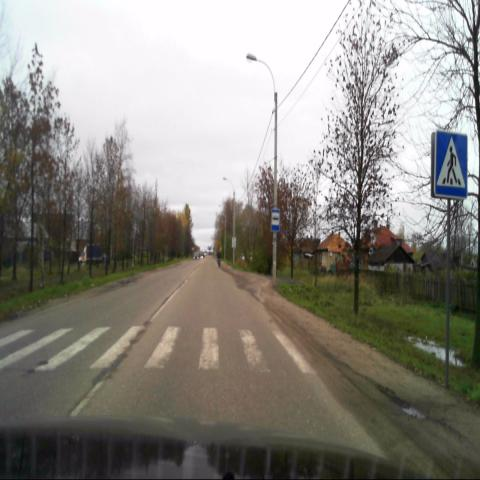5_16: (271, 209, 279, 232)
5_19_1: (432, 130, 468, 202)
